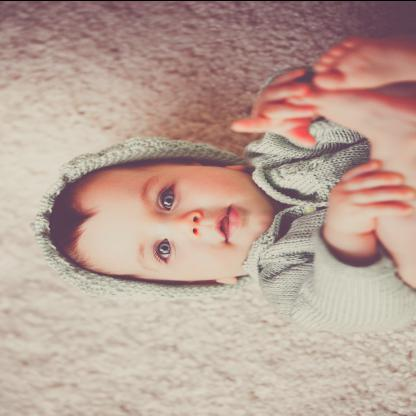Eye: (146, 233, 178, 267), (150, 181, 181, 215)
Mouth: (212, 198, 242, 247)
Nose: (166, 210, 202, 238)
